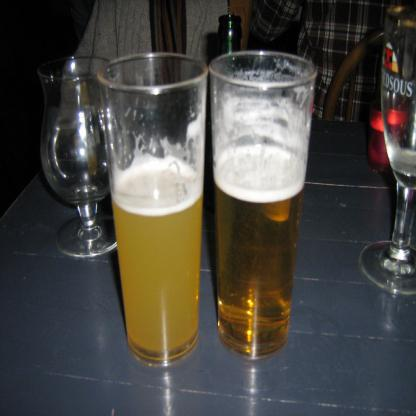drinking: (97, 53, 209, 366), (208, 52, 317, 362)
